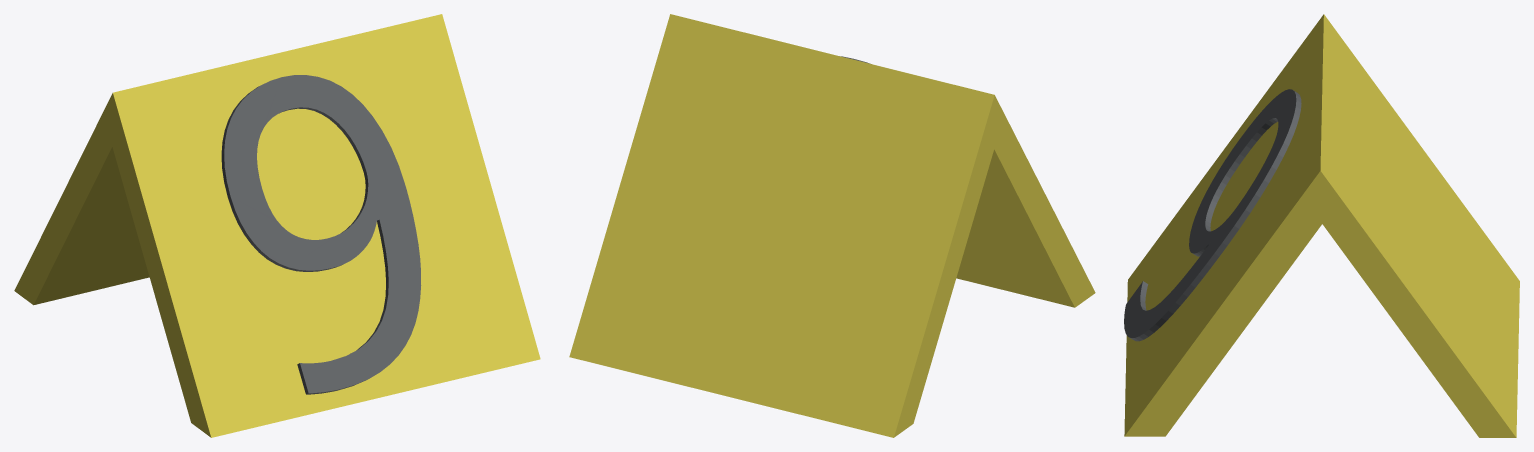
The model's file is 9bord.gltf.
3 views of the same model, side by side, from view 1: azimuth 30°, elevation 25°; view 2: azimuth 150°, elevation 25°; view 3: azimuth 270°, elevation 25° (orthographic).
Visible parts, largest first — view 1: Mesh_Mesh_head_geo.001_lambert2SG.001; view 2: Mesh_Mesh_head_geo.001_lambert2SG.001; view 3: Mesh_Mesh_head_geo.001_lambert2SG.001.
Boxes of the visible parts, bbox=[...] form: Mesh_Mesh_head_geo.001_lambert2SG.001: bbox=[14, 14, 540, 437]; Mesh_Mesh_head_geo.001_lambert2SG.001: bbox=[569, 14, 1095, 437]; Mesh_Mesh_head_geo.001_lambert2SG.001: bbox=[1124, 14, 1519, 437].
Bounding box in the file's own units: 19.09 × 15 × 20.2.
